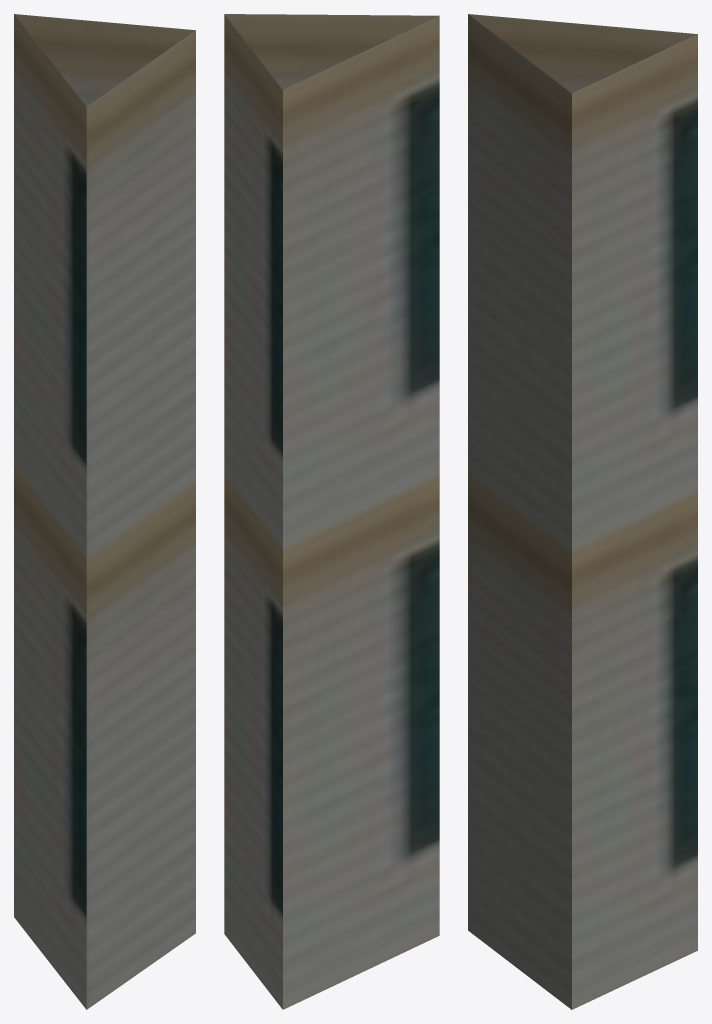
The model's file is ResTex__2706.fbx.
The picture shows the model from 3 angles, left to right: view 1: azimuth 30°, elevation 25°; view 2: azimuth 150°, elevation 25°; view 3: azimuth 270°, elevation 25°; orthographic projection.
Visible parts, largest first — view 1: CityEngineMaterial_7_m; view 2: CityEngineMaterial_7_m; view 3: CityEngineMaterial_7_m.
Boxes of the visible parts, <box> form: CityEngineMaterial_7_m: <box>14,14,195,1009</box>; CityEngineMaterial_7_m: <box>224,14,439,1009</box>; CityEngineMaterial_7_m: <box>468,14,697,1009</box>.
Bounding box in the file's own units: 1.12 × 6 × 1.36.
1 material, 1 textured.
